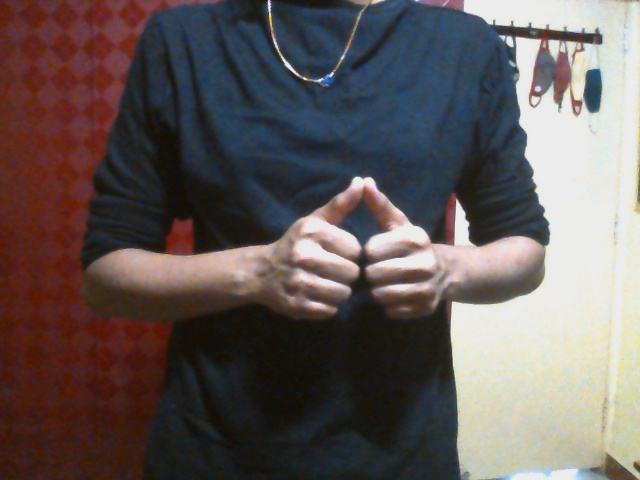A: (261, 175, 449, 324)
